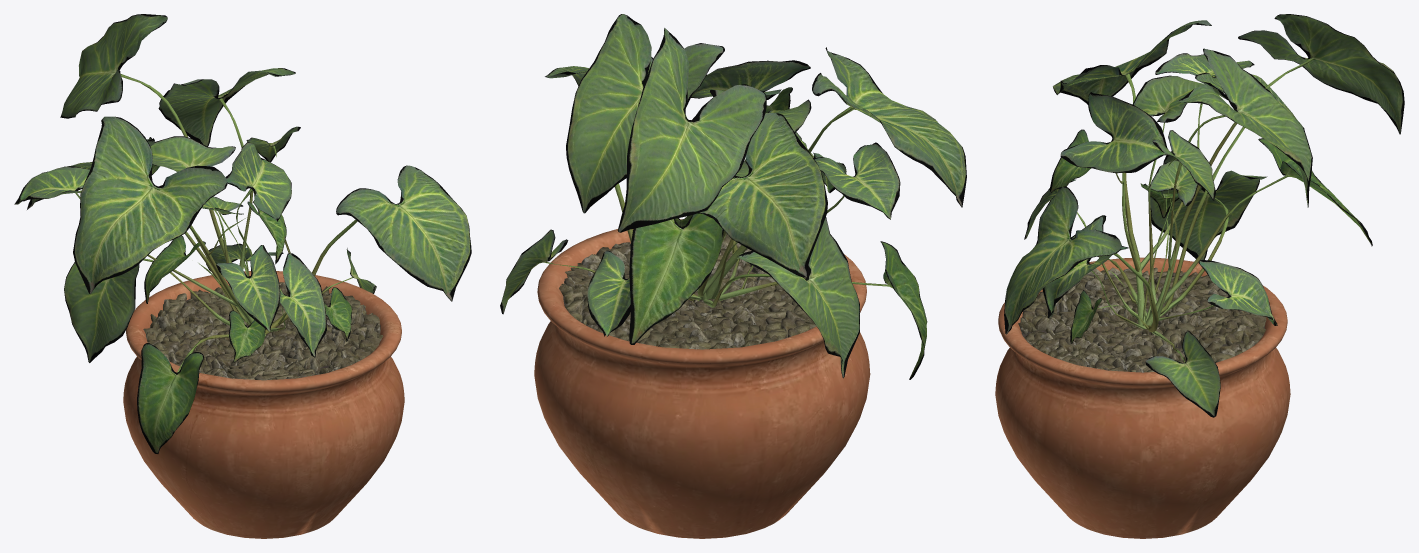
Rendered from potted_plant_02.glb.
3 renders of one model, left to right at view 1: azimuth 30°, elevation 25°; view 2: azimuth 150°, elevation 25°; view 3: azimuth 270°, elevation 25°, orthographic. The views are drawn at different scales.
Parts seen in each view (by area): view 1: potted_plant_02_leaves, potted_plant_02_pot; view 2: potted_plant_02_leaves, potted_plant_02_pot; view 3: potted_plant_02_pot, potted_plant_02_leaves.
Part boxes in pixels (x1=…): potted_plant_02_leaves: x1=14, y1=14, x2=471, y2=453; potted_plant_02_pot: x1=123, y1=271, x2=404, y2=538; potted_plant_02_leaves: x1=500, y1=14, x2=966, y2=379; potted_plant_02_pot: x1=534, y1=219, x2=870, y2=538; potted_plant_02_pot: x1=995, y1=257, x2=1290, y2=538; potted_plant_02_leaves: x1=1004, y1=14, x2=1404, y2=417.
Bounding box in the file's own units: 0.7009 × 0.8412 × 0.6574.
Materials: 2 (2 with a texture image).
